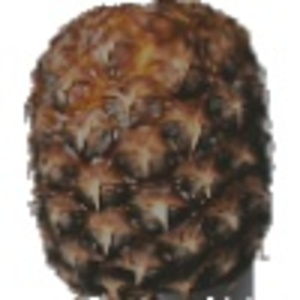abacaxi: (21, 2, 280, 299)
